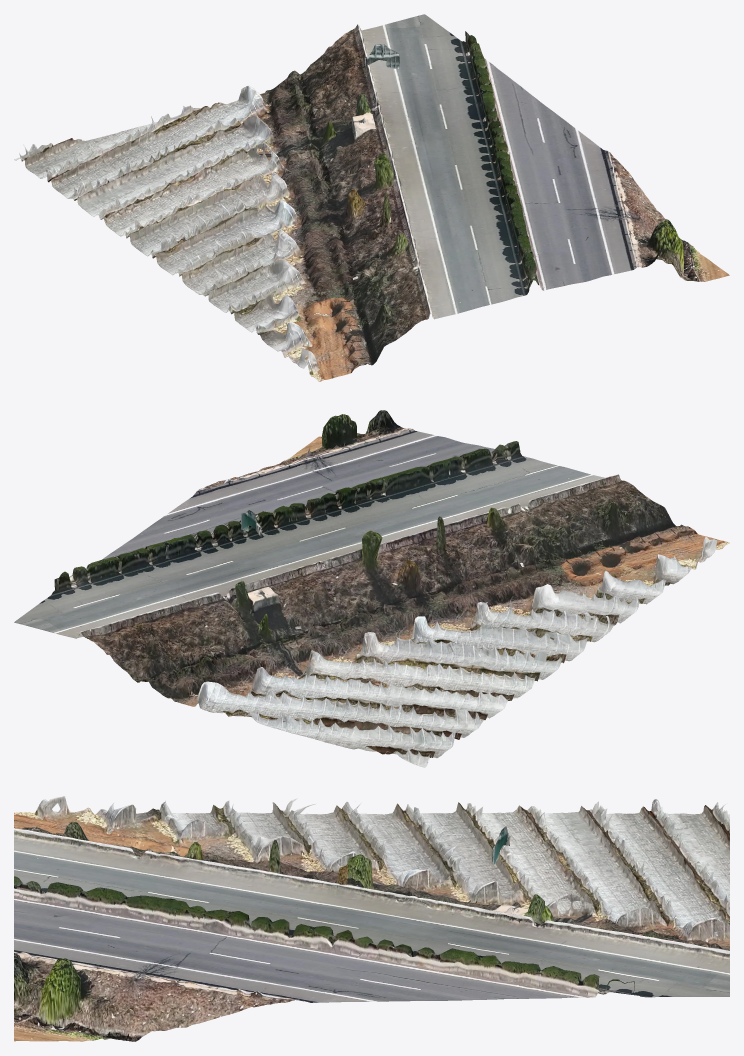
Rendered from BlockYB_L20_96.glb.
The picture shows the model from 3 angles, top to bottom: view 1: azimuth 30°, elevation 25°; view 2: azimuth 150°, elevation 25°; view 3: azimuth 270°, elevation 25°; orthographic projection. The views are drawn at different scales.
Parts seen in each view (by area): view 1: rtc; view 2: rtc; view 3: rtc.
Boxes of the visible parts, x1,y1,x2,y2 form: rtc: (14,14,729,381); rtc: (14,410,729,767); rtc: (14,796,729,1041).
Bounding box in the file's own units: 50.84 × 14.72 × 65.43.
7 materials, 7 textured.
